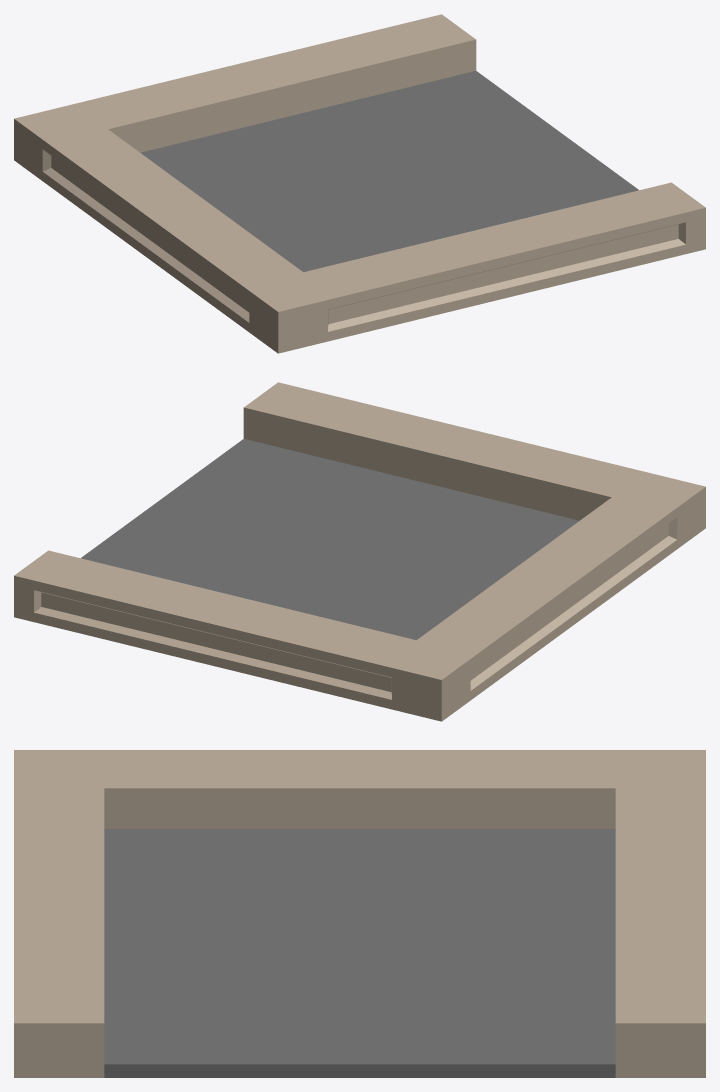
The model's file is roof_4x4_3sided.fbx.
3 views of the same model, one above another, from view 1: azimuth 30°, elevation 25°; view 2: azimuth 150°, elevation 25°; view 3: azimuth 270°, elevation 25° (orthographic). The views are drawn at different scales.
Parts seen in each view (by area): view 1: Cube; view 2: Cube; view 3: Cube.
Part boxes in pixels (x1,y1,x2,y2): Cube: [14, 14, 705, 353]; Cube: [14, 382, 705, 721]; Cube: [14, 750, 705, 1077].
Size of the model in its own units: 430 by 40 by 460.
